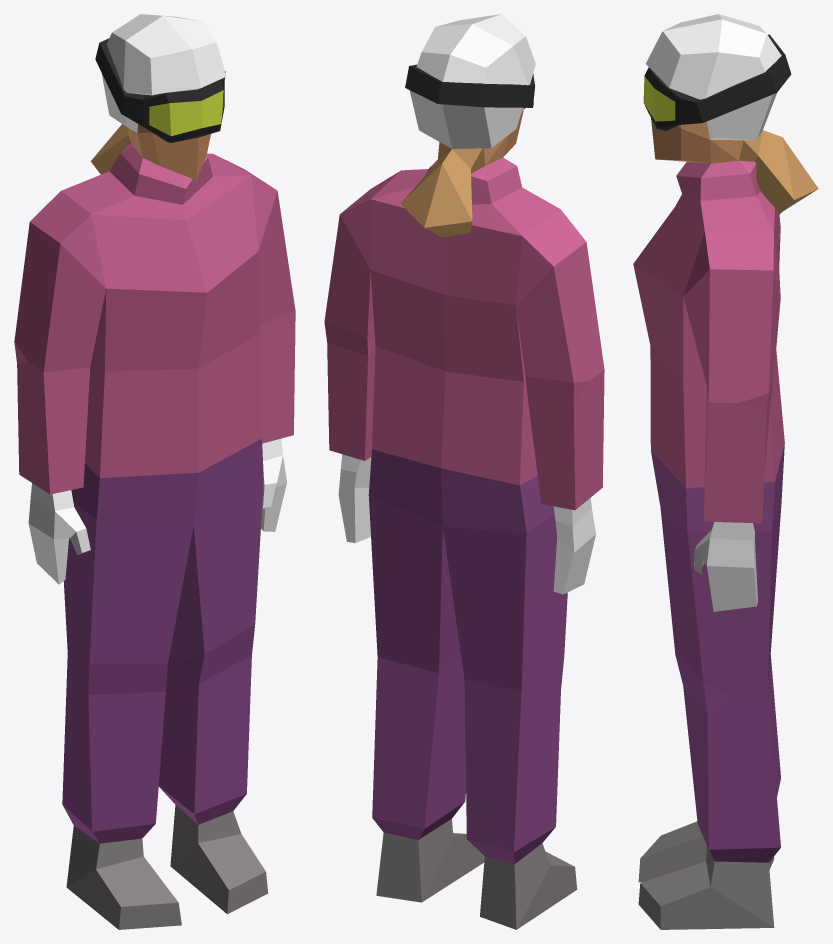
File: woman-ski.glb
The picture shows the model from 3 angles, left to right: view 1: azimuth 30°, elevation 25°; view 2: azimuth 150°, elevation 25°; view 3: azimuth 270°, elevation 25°; orthographic projection.
Parts seen in each view (by area): view 1: woman-ski; view 2: woman-ski; view 3: woman-ski.
Boxes of the visible parts, left/top/right/bottom form: woman-ski: left=14, top=14, right=295, bottom=929; woman-ski: left=324, top=14, right=604, bottom=929; woman-ski: left=633, top=14, right=818, bottom=929.
Size of the model in its own units: 0.5584 by 1.85 by 0.3556.
Materials: 1 (1 with a texture image).
